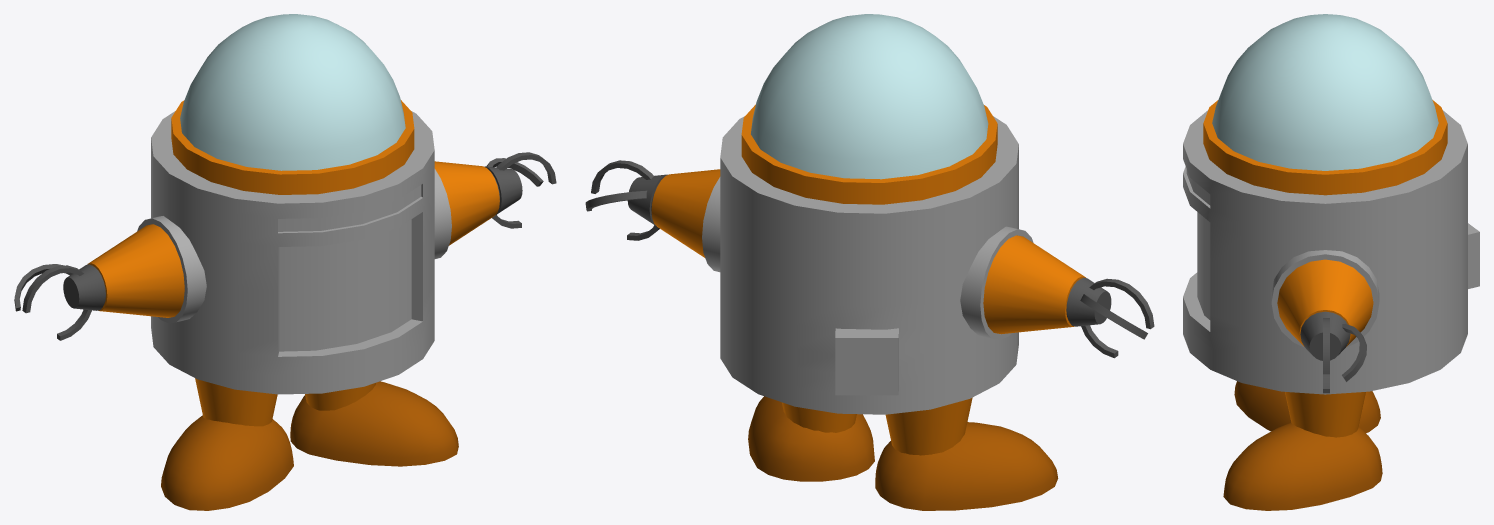
File: BugCollectorExportV2.fbx
3 views of the same model, side by side, from view 1: azimuth 30°, elevation 25°; view 2: azimuth 150°, elevation 25°; view 3: azimuth 270°, elevation 25° (orthographic). The views are drawn at different scales.
Visible parts, largest first — view 1: Body1, Dome, Foot02, Foot01, Arm01, Arm02, Leg01, ArmRing01, ArmRing02, FingAndThumb01, Leg02, FingAndThumb02; view 2: Body1, Dome, Foot01, Arm01, Foot02, Arm02, FanBox, Leg01, ArmRing01, ArmRing02, Leg02, FingAndThumb01 (+2 smaller); view 3: Body1, Dome, Foot02, Arm02, Leg02, Foot01, ArmRing02, FanBox, Finger02, FingAndThumb02.
Boxes of the visible parts, <box> form: Body1: <box>151,100,434,394</box>; Dome: <box>180,14,405,170</box>; Foot02: <box>290,381,458,466</box>; Foot01: <box>161,415,293,510</box>; Arm01: <box>63,224,184,317</box>; Arm02: <box>434,161,522,245</box>; Leg01: <box>195,378,277,426</box>; ArmRing01: <box>137,216,206,323</box>; ArmRing02: <box>434,169,451,258</box>; FingAndThumb01: <box>22,265,91,340</box>; Leg02: <box>305,383,375,410</box>; FingAndThumb02: <box>492,152,556,228</box>; Body1: <box>720,104,1018,414</box>; Dome: <box>751,14,988,179</box>; Foot01: <box>875,422,1058,510</box>; Arm01: <box>983,235,1111,334</box>; Foot02: <box>748,396,874,481</box>; Arm02: <box>627,169,720,257</box>; FanBox: <box>835,328,898,395</box>; Leg01: <box>885,397,972,455</box>; ArmRing01: <box>960,226,1033,339</box>; ArmRing02: <box>702,177,720,272</box>; Leg02: <box>782,402,856,432</box>; FingAndThumb01: <box>1081,278,1154,358</box>; Body1: <box>1183,100,1467,394</box>; Dome: <box>1212,14,1438,170</box>; Foot02: <box>1223,422,1382,510</box>; Arm02: <box>1277,259,1373,360</box>; Leg02: <box>1285,392,1365,437</box>; Foot01: <box>1234,381,1380,433</box>; ArmRing02: <box>1271,250,1379,347</box>; FanBox: <box>1468,223,1479,288</box>; Finger02: <box>1342,324,1366,381</box>; FingAndThumb02: <box>1323,318,1329,393</box>.
Bounding box in the file's own units: 12.22 × 9.31 × 5.9.
